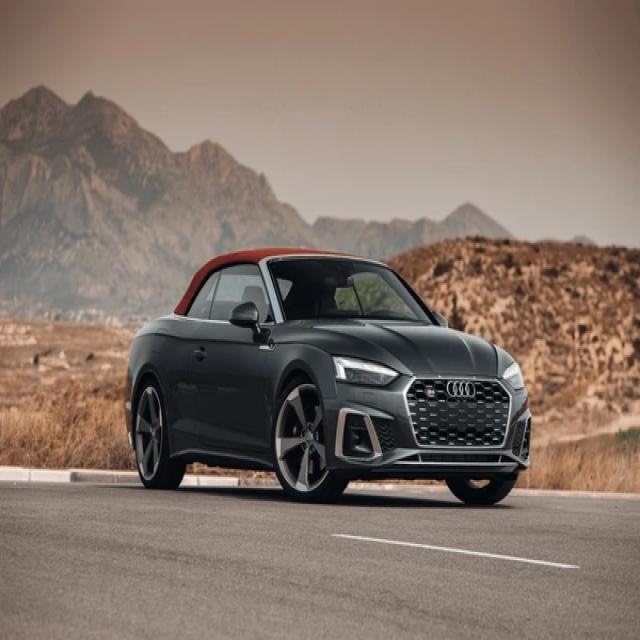audi: (445, 379, 476, 398)
